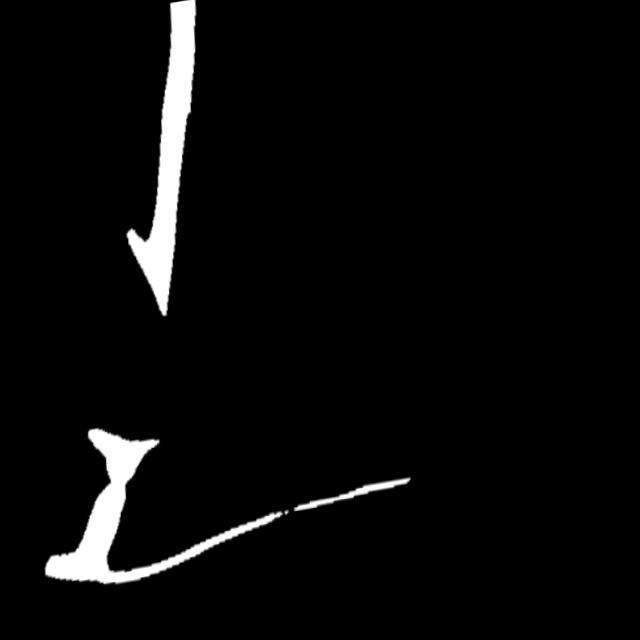inf: (279, 502, 311, 527)
